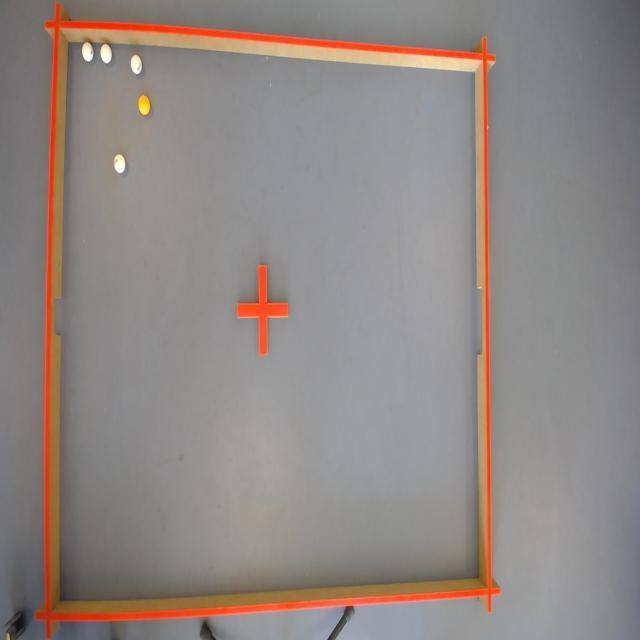orange: (136, 93, 150, 114)
white: (80, 41, 95, 63), (128, 54, 142, 76), (99, 42, 110, 66), (114, 153, 125, 174)
